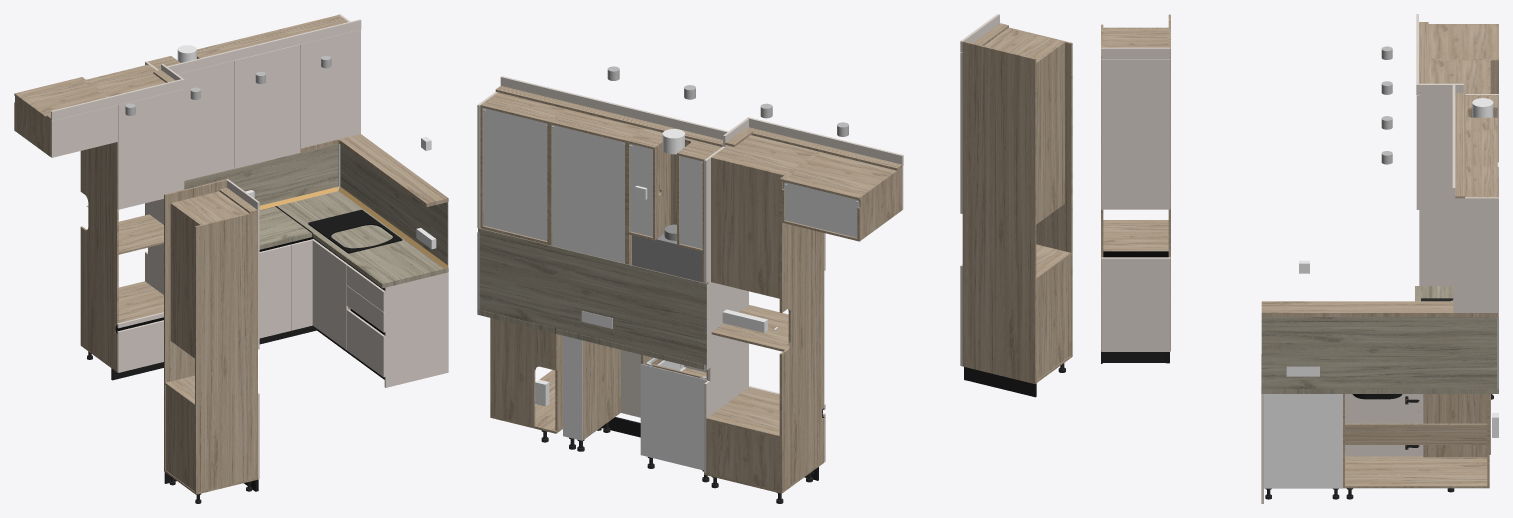
3 renders of one model, left to right at view 1: azimuth 30°, elevation 25°; view 2: azimuth 150°, elevation 25°; view 3: azimuth 270°, elevation 25°, orthographic. The views are drawn at different scales.
Parts seen in each view (by area): view 1: node_0109, node_0056, node_0141, node_0061, node_0023, node_0094, node_0123, node_0072, node_0121, node_0120, node_0106, node_0096 (+26 smaller); view 2: node_0108, node_0120, node_0056, node_0136, node_0053, node_0088, node_0041, node_0130, node_0055, node_0106, node_0054, node_0107 (+27 smaller); view 3: node_0121, node_0114, node_0022, node_0055, node_0115, node_0095, node_0128, node_0131, node_0124, node_0090, node_0132, node_0068 (+20 smaller).
Boxes of the visible parts, box(x1,y1,x2,y2) form: node_0109: box(195, 212, 257, 492); node_0056: box(80, 77, 118, 369); node_0141: box(234, 44, 300, 168); node_0061: box(117, 89, 184, 209); node_0023: box(384, 272, 448, 387); node_0094: box(300, 30, 358, 148); node_0123: box(277, 191, 448, 288); node_0072: box(178, 60, 233, 180); node_0121: box(340, 145, 448, 267); node_0120: box(145, 144, 338, 214); node_0106: box(170, 202, 201, 358); node_0096: box(259, 244, 291, 338); node_0108: box(962, 41, 1036, 383); node_0120: box(478, 228, 706, 365); node_0056: box(779, 151, 824, 491); node_0136: box(552, 125, 624, 263); node_0053: box(711, 156, 784, 298); node_0088: box(483, 108, 547, 240); node_0041: box(640, 364, 707, 470); node_0130: box(490, 318, 557, 425); node_0055: box(704, 146, 748, 472); node_0106: box(1036, 42, 1064, 224); node_0054: box(706, 420, 779, 490); node_0107: box(1036, 255, 1070, 380); node_0121: box(1261, 317, 1496, 389); node_0114: box(1101, 59, 1170, 209); node_0022: box(1264, 394, 1342, 488); node_0055: box(1419, 94, 1498, 285); node_0115: box(1101, 257, 1170, 351); node_0095: box(1453, 197, 1498, 312); node_0128: box(1343, 456, 1489, 488); node_0131: box(1345, 423, 1487, 444); node_0124: box(1423, 394, 1487, 457); node_0090: box(1261, 300, 1497, 314); node_0132: box(1345, 394, 1411, 456); node_0068: box(1428, 25, 1498, 58).
Bounding box in the file's own units: 2.95 × 2.5 × 2.85.
Materials: 41 (5 with a texture image).
